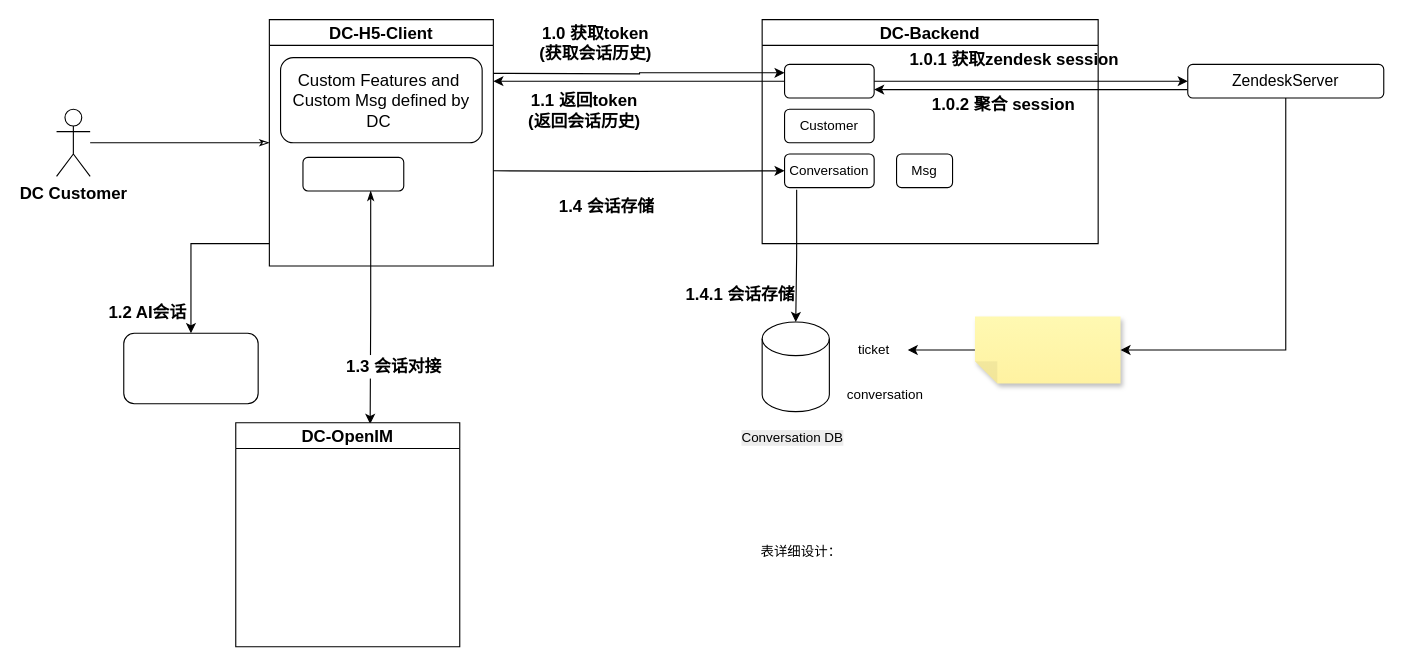
The diagram is 1403 pixels wide and 666 high, and some of its shapes have lost their labels. The shapes that lost their labels are listed below. From the top down, each one's centre as x and y in pixels, then its label:
[828,80]: Channel
[353,173]: OpenIm.wasm
[190,368]: AI
[1048,351]: 通过zendesk回调存储
